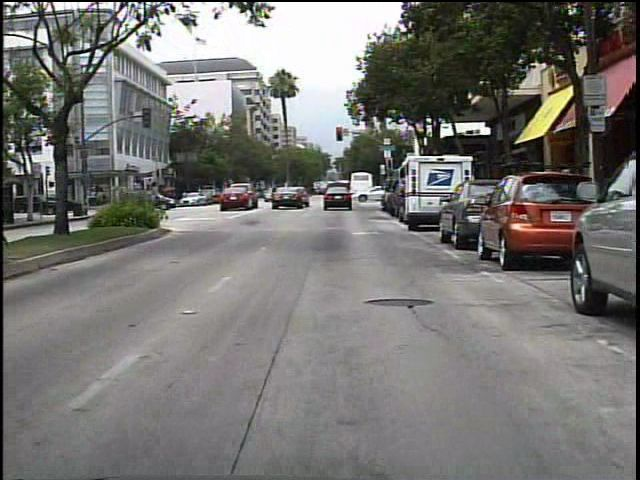person: (267, 182, 281, 206)
